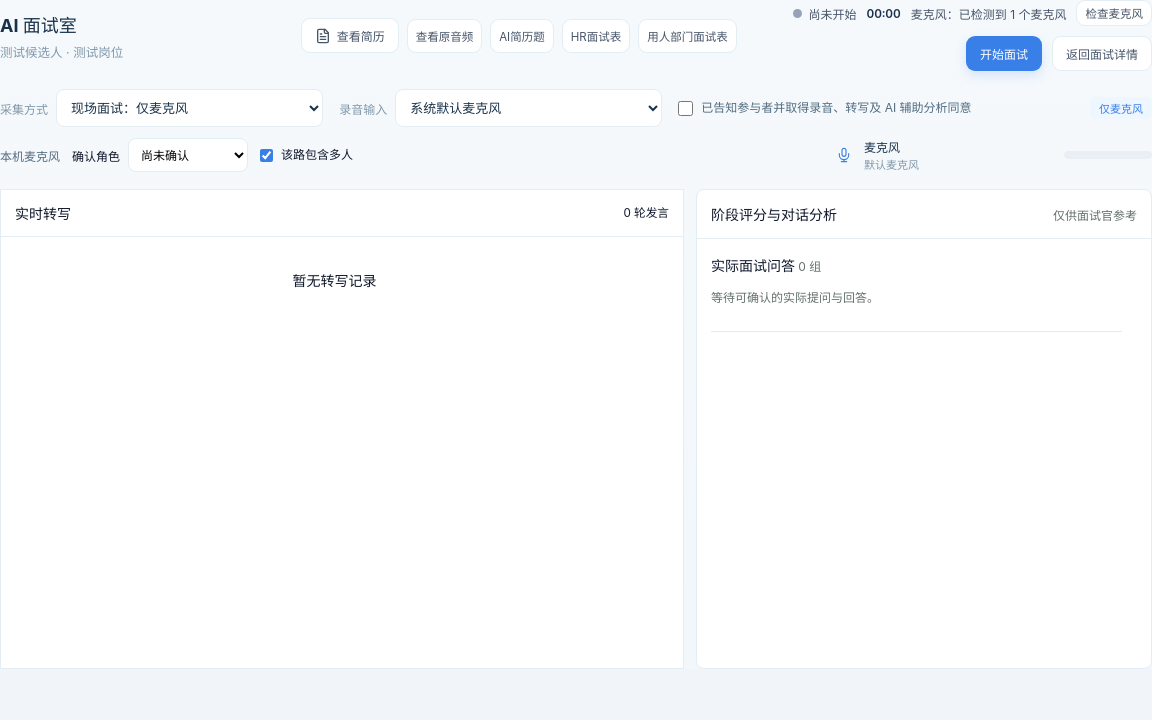
Test case: live interview meeting audio › does not start a session or recorder when sharing has no audio
Select "线上面试：麦克风 + 会议声音" in the dropdown named "音频采集方式" at (190, 108), box x1=56 y1=89 x2=323 y2=127
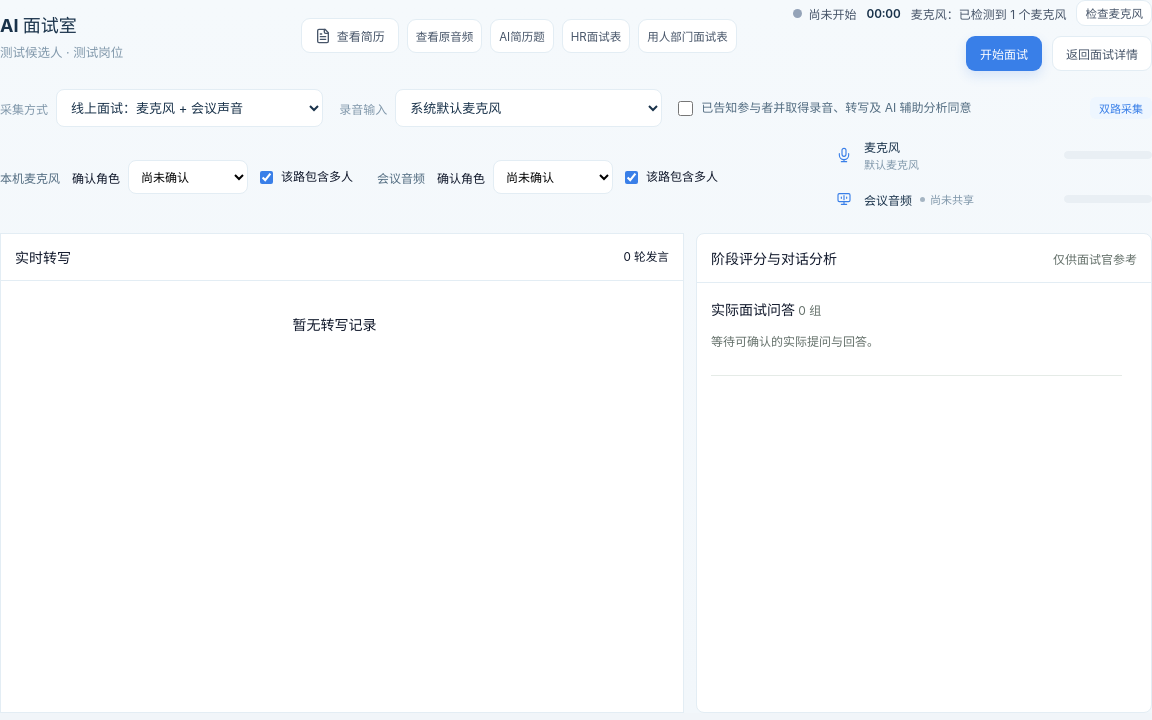
Click the checkbox labelled "已告知参与者并取得录音、转写及 AI 辅助分析同意" at (686, 108), box x1=678 y1=100 x2=693 y2=116
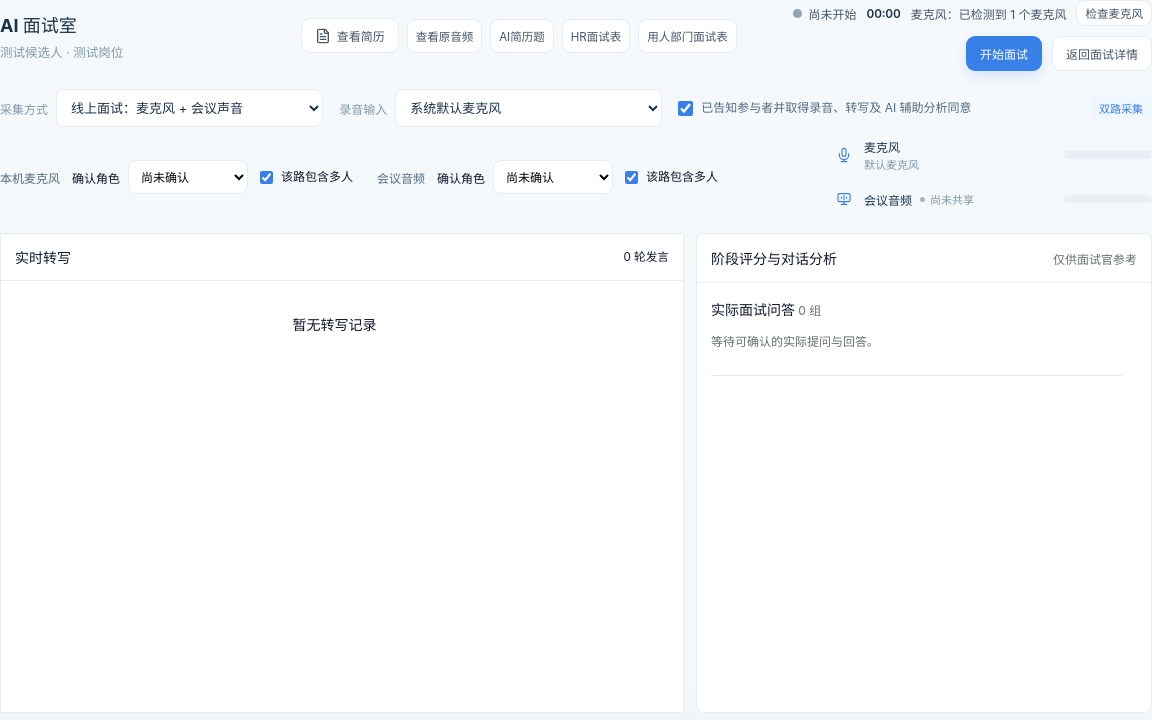
Click the button "开始面试" at (1004, 54), box x1=966 y1=36 x2=1042 y2=71
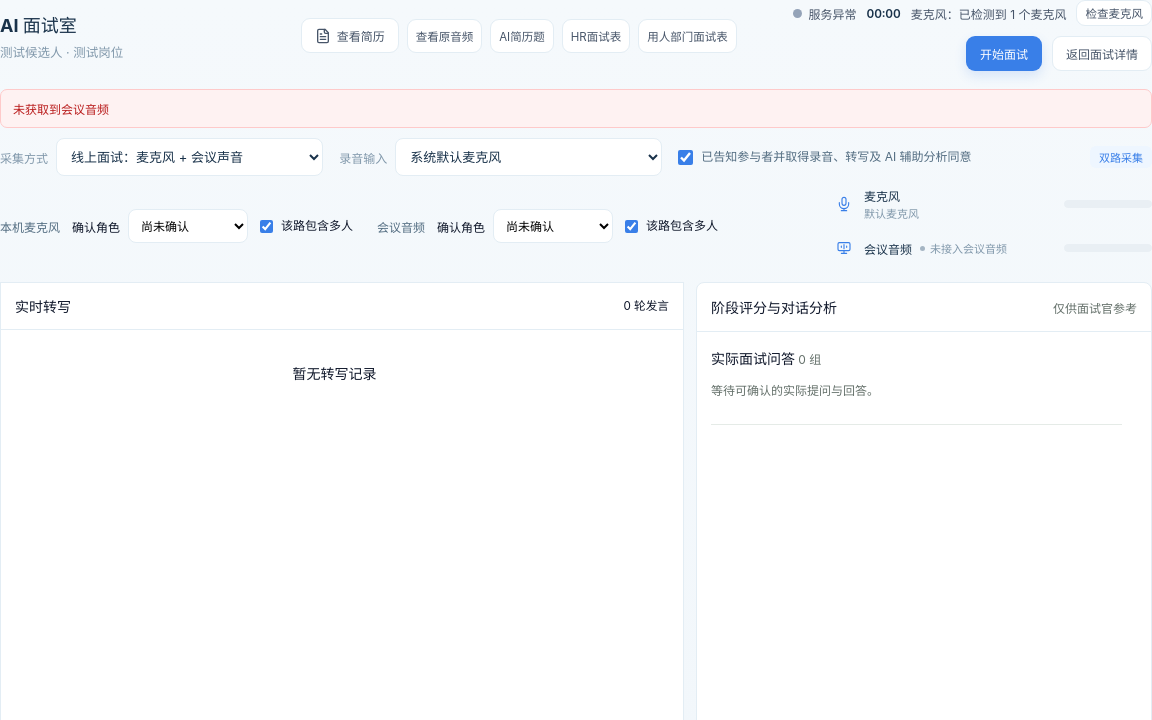
Check: the text "未接入会议音频" is shown, box x1=920 y1=240 x2=1007 y2=256
Check: the message "未获取到会议音频" is shown, box x1=0 y1=89 x2=1151 y2=128
